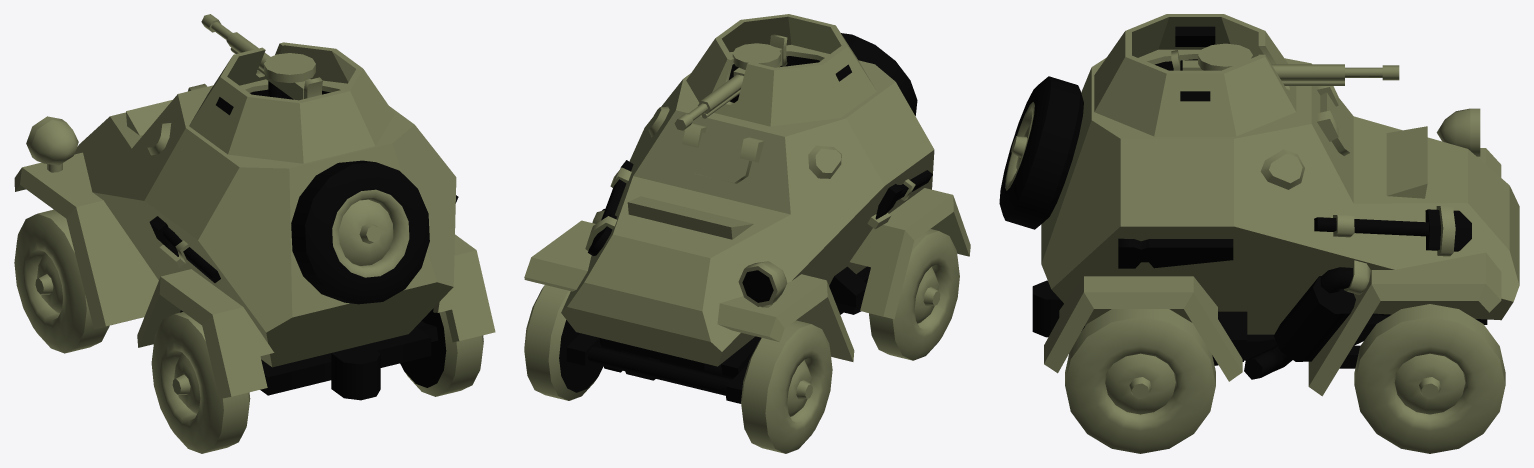
The model's file is Tank_R_BA_64.fbx.
3 renders of one model, left to right at view 1: azimuth 30°, elevation 25°; view 2: azimuth 150°, elevation 25°; view 3: azimuth 270°, elevation 25°, orthographic. The views are drawn at different scales.
Parts seen in each view (by area): view 1: hull, turret, tire_back, tire_front_l, wheel_back, gun, wheel_front_l; view 2: hull, turret, tire_front_l, tire_back, tire_front_r, gun, wheel_back, wheel_front_l, wheel_front_r; view 3: hull, turret, tire_front_r, tire_back, wheel_back, wheel_front_r, gun.
Part boxes in pixels (x1,y1,x2,y2): hull: (14, 71, 495, 400); turret: (189, 42, 394, 163); tire_back: (151, 311, 483, 453); tire_front_l: (14, 209, 109, 353); wheel_back: (160, 308, 446, 428); gun: (201, 14, 322, 100); wheel_front_l: (22, 242, 66, 328); hull: (524, 33, 970, 403); turret: (686, 14, 876, 126); tire_front_l: (741, 320, 832, 453); tire_back: (869, 229, 959, 360); tire_front_r: (524, 285, 596, 400); gun: (674, 34, 787, 130); wheel_back: (911, 257, 951, 337); wheel_front_l: (783, 350, 824, 430); wheel_front_r: (559, 320, 603, 392); hull: (999, 58, 1519, 396); turret: (1094, 14, 1296, 136); tire_front_r: (1354, 304, 1505, 453); tire_back: (1065, 309, 1215, 453); wheel_back: (1093, 346, 1187, 430); wheel_front_r: (1383, 346, 1476, 430); gun: (1171, 43, 1399, 85).
Size of the model in its own units: 254 by 384 by 280.
